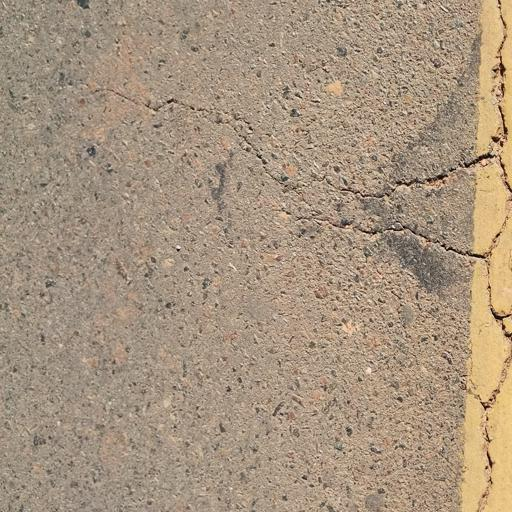GRIETA: (86, 89, 283, 186), (489, 0, 509, 134), (476, 416, 494, 511)
PIEL DE COCODRILO: (271, 135, 511, 421)
